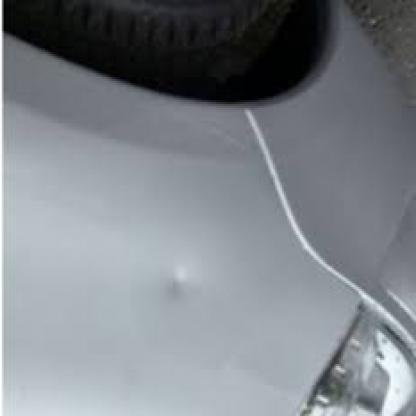dent: (158, 256, 204, 312)
